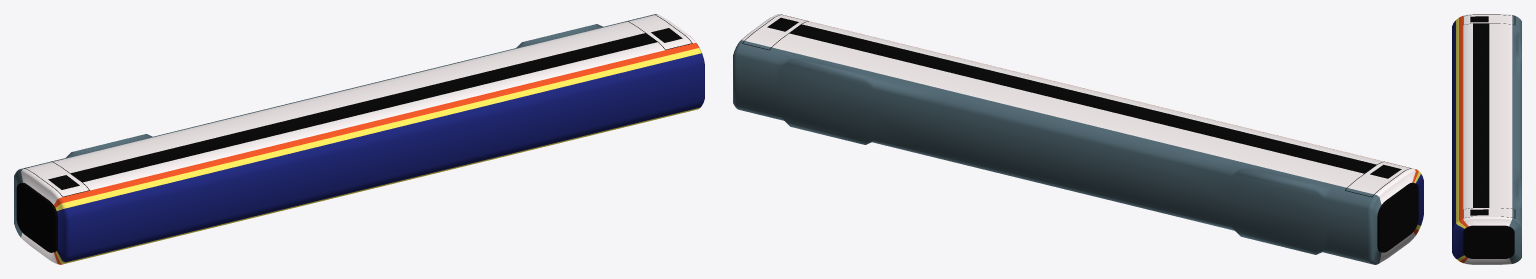
The model's file is passenger-emu-middle.glb.
The picture shows the model from 3 angles, left to right: view 1: azimuth 30°, elevation 25°; view 2: azimuth 150°, elevation 25°; view 3: azimuth 270°, elevation 25°; orthographic projection. The views are drawn at different scales.
Visible parts, largest first — view 1: Plane; view 2: Plane; view 3: Plane.
Part boxes in pixels (bbox=[...]): Plane: bbox=[14, 14, 704, 264]; Plane: bbox=[733, 14, 1423, 264]; Plane: bbox=[1452, 14, 1521, 264].
Size of the model in its own units: 28 by 3 by 4.
Materials: 3 (2 with a texture image).
